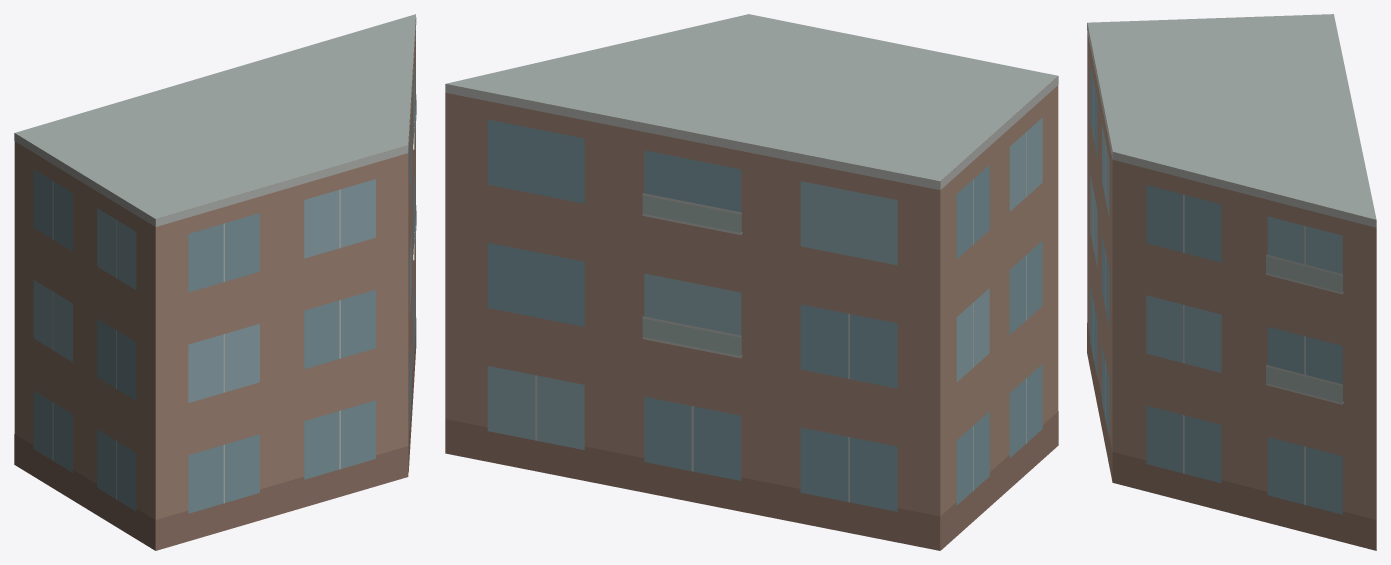
File: survey-upis-32810939.glb
The picture shows the model from 3 angles, left to right: view 1: azimuth 30°, elevation 25°; view 2: azimuth 150°, elevation 25°; view 3: azimuth 270°, elevation 25°; orthographic projection. The views are drawn at different scales.
Visible parts, largest first — view 1: survey-upis-32810939.tmp; view 2: survey-upis-32810939.tmp; view 3: survey-upis-32810939.tmp.
Boxes of the visible parts, x1,y1,x2,y2 form: survey-upis-32810939.tmp: [14, 14, 416, 550]; survey-upis-32810939.tmp: [445, 14, 1058, 550]; survey-upis-32810939.tmp: [1087, 14, 1376, 550].
Bounding box in the file's own units: 13.49 × 10.1 × 8.01.
